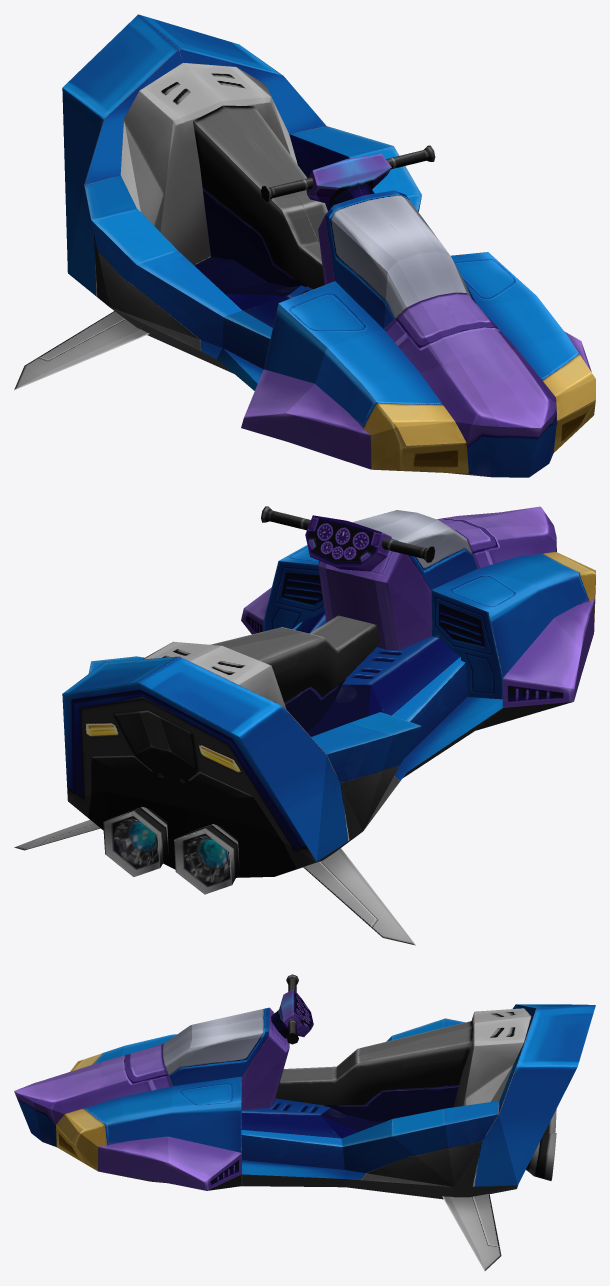
Rendered from tr_moto_003_2.fbx.
3 views of the same model, one above another, from view 1: azimuth 30°, elevation 25°; view 2: azimuth 150°, elevation 25°; view 3: azimuth 270°, elevation 25° (orthographic). The views are drawn at different scales.
Visible parts, largest first — view 1: polySurface1; view 2: polySurface1; view 3: polySurface1.
Boxes of the visible parts, bbox=[...] form: polySurface1: bbox=[14, 14, 595, 477]; polySurface1: bbox=[14, 506, 595, 945]; polySurface1: bbox=[14, 974, 595, 1271].
Bounding box in the file's own units: 130 × 86.17 × 225.
